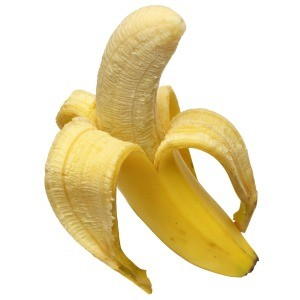banana_brain food: (102, 73, 183, 232)
